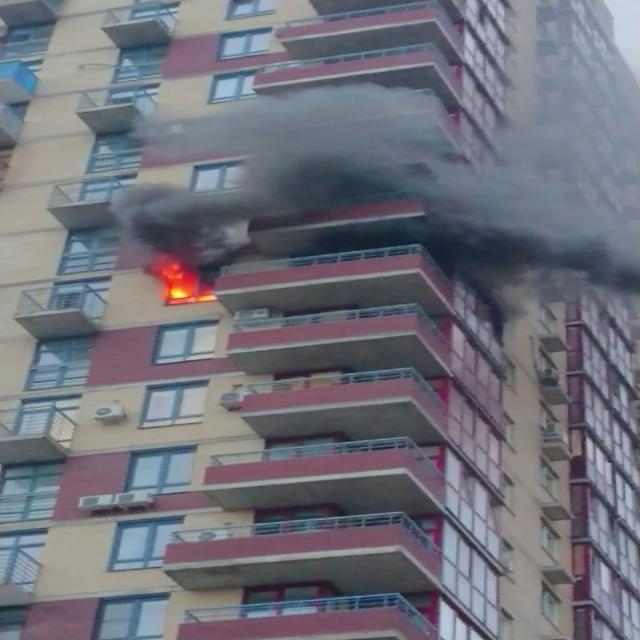Fire: (148, 260, 218, 304)
Smoke: (92, 72, 640, 268)
